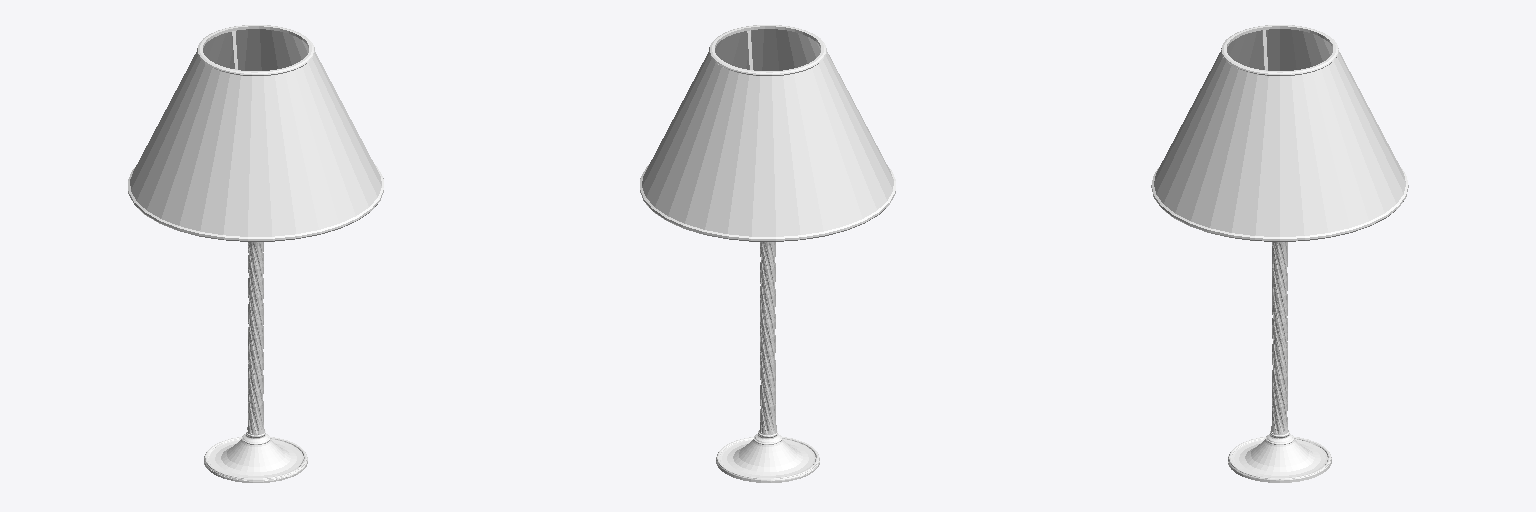
File: table-lamp.obj
3 views of the same model, side by side, from view 1: azimuth 30°, elevation 25°; view 2: azimuth 150°, elevation 25°; view 3: azimuth 270°, elevation 25° (orthographic).
Visible parts, largest first — view 1: table-lamp; view 2: table-lamp; view 3: table-lamp.
Boxes of the visible parts, x1=… form: table-lamp: x1=128, y1=25, x2=383, y2=482; table-lamp: x1=640, y1=25, x2=895, y2=482; table-lamp: x1=1151, y1=25, x2=1408, y2=482.
Size of the model in its own units: 0.4725 by 0.839 by 0.4725.